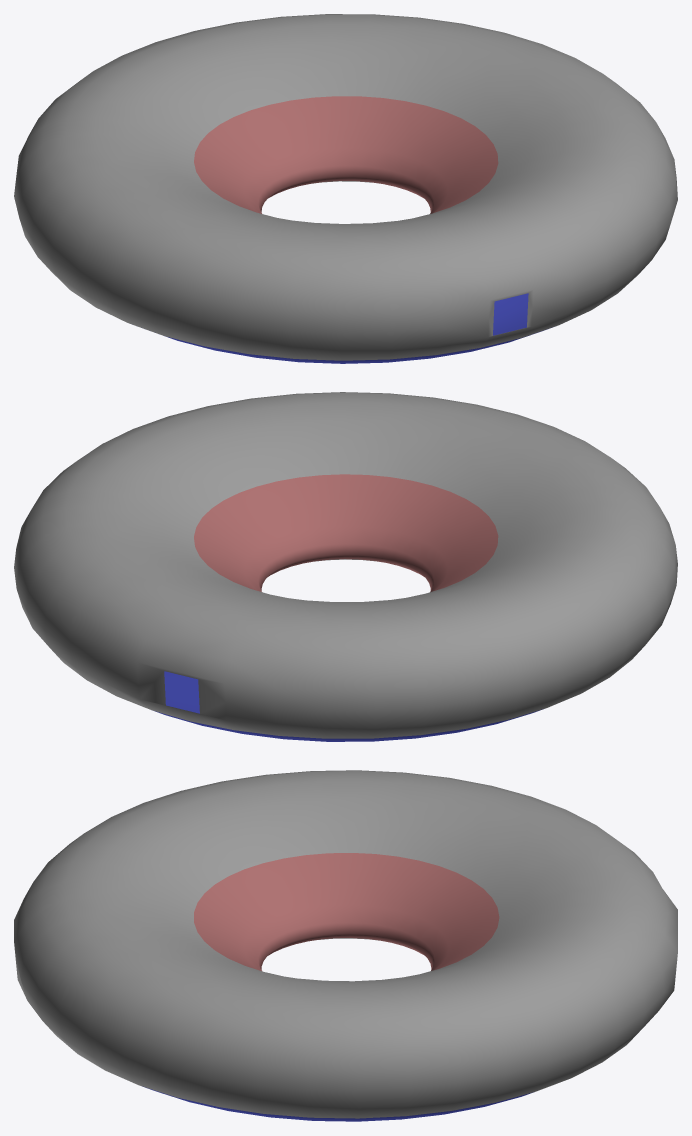
Rendered from Little DonutRoom.FBX.
3 renders of one model, top to bottom at view 1: azimuth 30°, elevation 25°; view 2: azimuth 150°, elevation 25°; view 3: azimuth 270°, elevation 25°, orthographic.
Parts seen in each view (by area): view 1: Torus004; view 2: Torus004; view 3: Torus004.
Boxes of the visible parts, <box> form: Torus004: <box>14,14,677,363</box>; Torus004: <box>14,392,677,741</box>; Torus004: <box>14,770,677,1121</box>.
Bounding box in the file's own units: 67.59 × 13.53 × 67.3.
